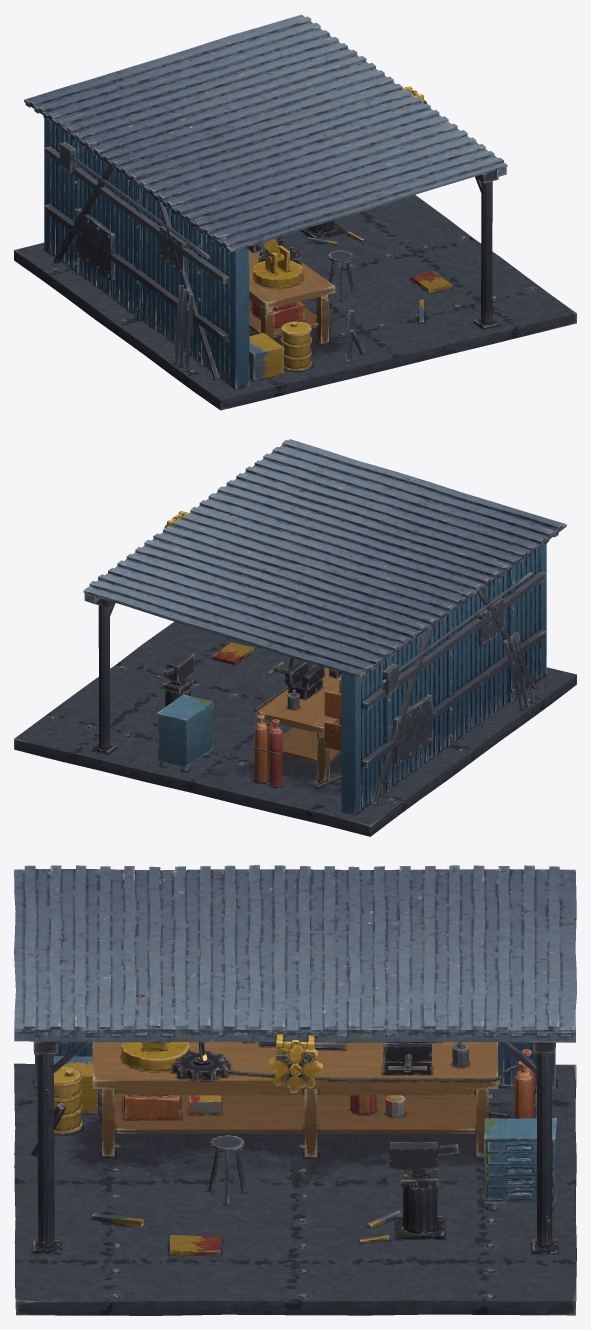
3 views of the same model, one above another, from view 1: azimuth 30°, elevation 25°; view 2: azimuth 150°, elevation 25°; view 3: azimuth 270°, elevation 25° (orthographic). The views are drawn at different scales.
Visible parts, largest first — view 1: Roof, Deck, BackWall, Fittings, Supplies, Workbench, RoofPosts, RobotArm, Anvil; view 2: Roof, Deck, BackWall, Fittings, Supplies, Workbench, RoofPosts, TorchAndWork, Anvil, PartsBins; view 3: Roof, Deck, Workbench, Supplies, RoofPosts, Anvil, TorchAndWork, Fittings, HangingSign, RobotArm, BackWall, Cables.
Part boxes in pixels (box(x1,y1,x2,y2)): Roof: box(24, 14, 507, 252); Deck: box(14, 195, 576, 410); BackWall: box(44, 118, 249, 389); Fittings: box(44, 142, 364, 379); Supplies: box(249, 231, 451, 381); Workbench: box(249, 242, 335, 344); RoofPosts: box(474, 172, 499, 329); RobotArm: box(253, 238, 302, 288); Anvil: box(300, 220, 345, 238); Roof: box(83, 439, 566, 678); Deck: box(14, 621, 576, 836); BackWall: box(341, 543, 546, 814); Fittings: box(287, 571, 546, 804); Supplies: box(157, 642, 282, 787); Workbench: box(255, 667, 341, 782); RoofPosts: box(92, 598, 116, 754); TorchAndWork: box(266, 660, 324, 699); Anvil: box(154, 651, 194, 725); PartsBins: box(324, 679, 341, 750); Roof: box(14, 865, 576, 1042); Deck: box(14, 1063, 576, 1315); Workbench: box(92, 1041, 497, 1157); Supplies: box(53, 1049, 556, 1255); RoofPosts: box(33, 1041, 556, 1253); Anvil: box(389, 1142, 459, 1239); TorchAndWork: box(171, 1042, 431, 1081); Fittings: box(32, 1042, 469, 1204); HangingSign: box(269, 1034, 322, 1093); RobotArm: box(121, 1042, 189, 1071); BackWall: box(35, 1042, 555, 1088); Cables: box(199, 1044, 536, 1116).
Size of the model in its own units: 18.02 by 8.66 by 18.06.
Materials: 22 (22 with a texture image).
